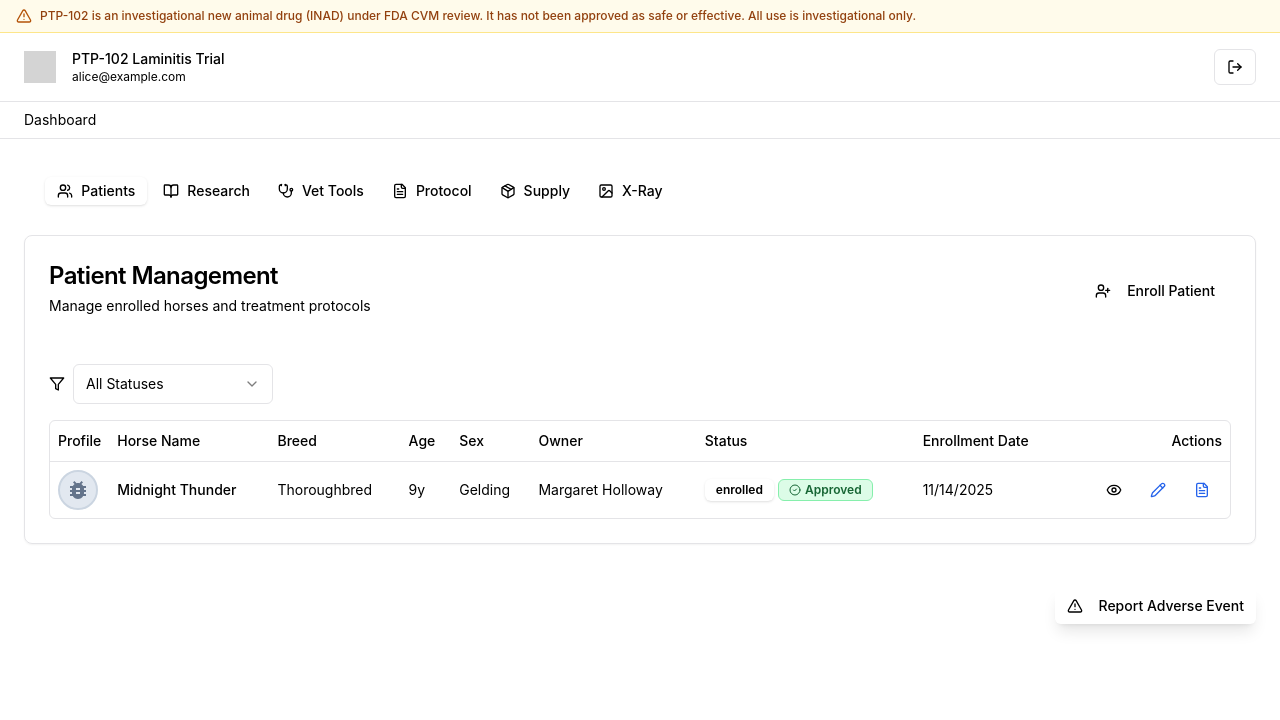
Test: Supply shipment visibility between admin and vet clinic › shows the shipment on the assigned vet clinic Supply tab
Step 1. Click the tab "Supply" → [535, 191], box [488,177,582,205]
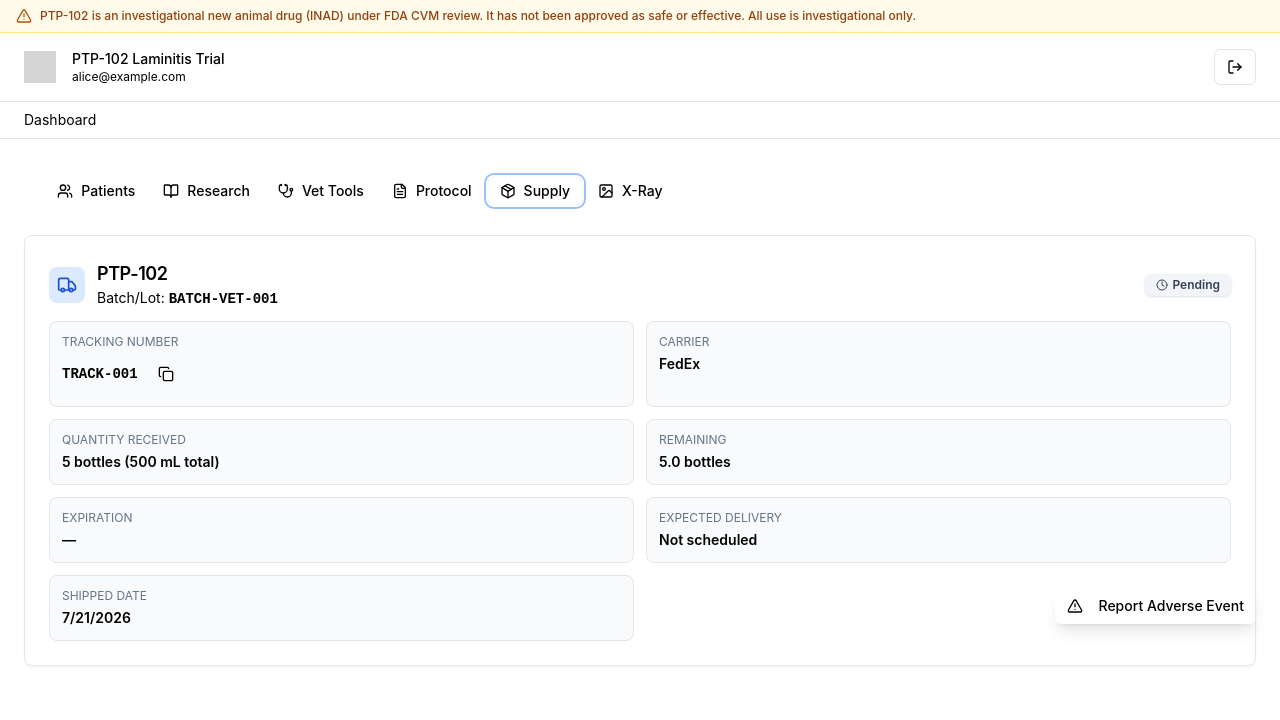
Now the text "BATCH-VET-001" is shown, box [169,291,278,307]
Now the text "Pending" is shown, box [1172,276,1220,292]
